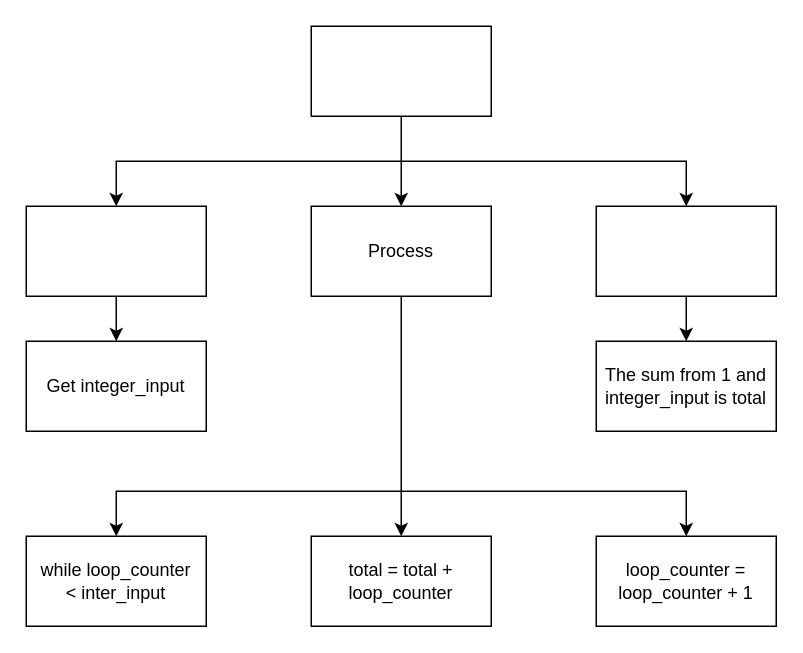
Some shapes in this 803 by 653 pixel diagram are drawn without their labels. Here are the shapes that lost their labels. From the top down, the box of each, then its label:
(310, 25, 491, 116): Pizza Total
(25, 205, 206, 296): Input
(595, 205, 776, 296): Output
